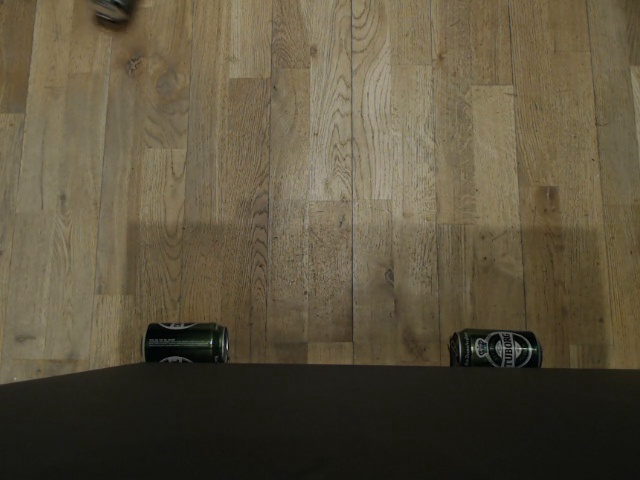beer: (448, 327, 545, 371), (138, 319, 228, 363), (87, 0, 136, 21)
